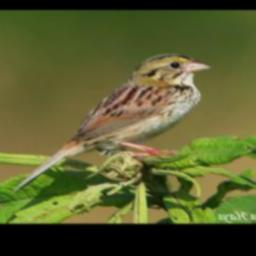Sparrow: (9, 51, 215, 196)
